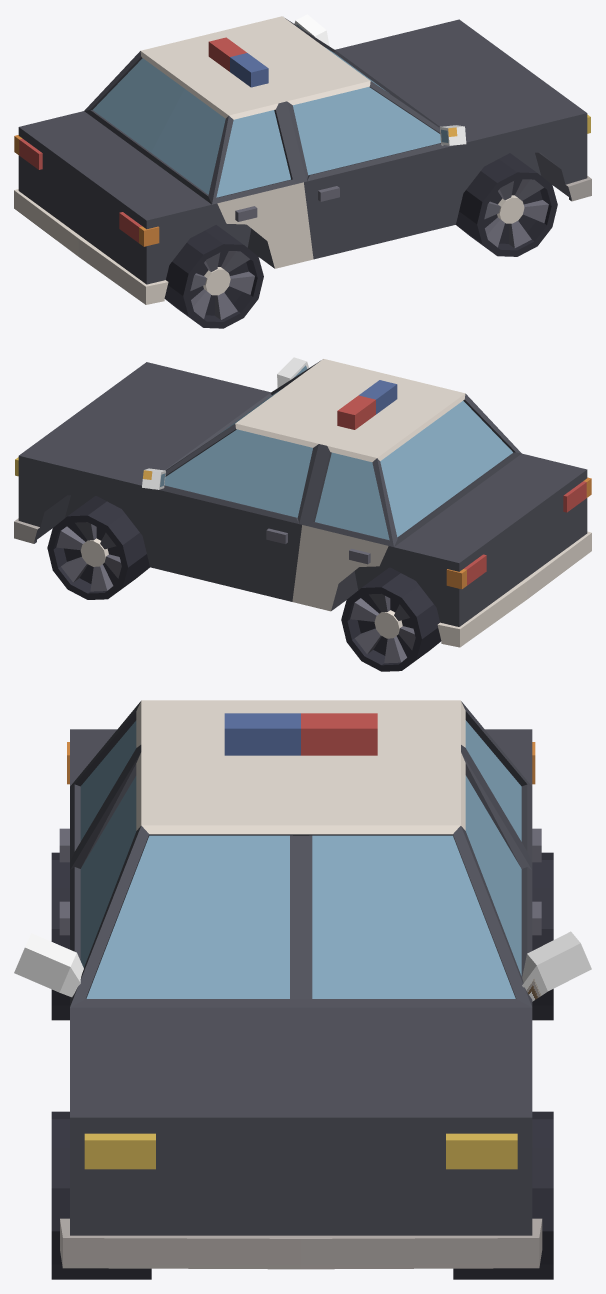
File: car4.fbx
3 renders of one model, top to bottom at view 1: azimuth 30°, elevation 25°; view 2: azimuth 150°, elevation 25°; view 3: azimuth 270°, elevation 25°, orthographic. The views are drawn at different scales.
Visible parts, largest first — view 1: Cylinder.001, Cylinder.011, Cylinder.008, Cylinder.007, Cube, Cylinder.006, Cylinder.004, Cylinder.010, Cylinder.009; view 2: Cylinder.001, Cylinder.011, Cylinder, Cylinder.002, Cube, Cylinder.004, Cylinder.006, Cylinder.010, Cylinder.009; view 3: Cylinder.011, Cylinder.001, Cube, Cylinder, Cylinder.008, Cylinder.009, Cylinder.010, Cylinder.003, Cylinder.005, Cylinder.002, Cylinder.007.
Part boxes in pixels (<box>): Cylinder.001: <box>14,19,591,304</box>; Cylinder.011: <box>84,16,454,204</box>; Cylinder.008: <box>456,153,557,256</box>; Cylinder.007: <box>164,225,263,328</box>; Cube: <box>208,37,268,87</box>; Cylinder.006: <box>119,212,159,246</box>; Cylinder.004: <box>14,135,42,169</box>; Cylinder.010: <box>439,125,466,145</box>; Cylinder.009: <box>294,14,329,45</box>; Cylinder.001: <box>14,362,591,647</box>; Cylinder.011: <box>159,359,521,546</box>; Cylinder: <box>47,496,149,599</box>; Cylinder.002: <box>341,567,441,671</box>; Cube: <box>337,380,397,429</box>; Cylinder.004: <box>446,554,486,589</box>; Cylinder.006: <box>563,477,591,512</box>; Cylinder.010: <box>277,357,309,388</box>; Cylinder.009: <box>142,468,165,489</box>; Cylinder.011: <box>70,700,532,1007</box>; Cylinder.001: <box>60,729,542,1269</box>; Cube: <box>224,713,377,755</box>; Cylinder: <box>453,1111,553,1279</box>; Cylinder.008: <box>51,1111,151,1279</box>; Cylinder.009: <box>522,931,591,1001</box>; Cylinder.010: <box>14,933,83,997</box>; Cylinder.003: <box>446,1133,517,1169</box>; Cylinder.005: <box>84,1133,155,1169</box>; Cylinder.002: <box>532,852,553,1020</box>; Cylinder.007: <box>51,852,69,1020</box>.
Size of the model in its own units: 516 by 221 by 316.
